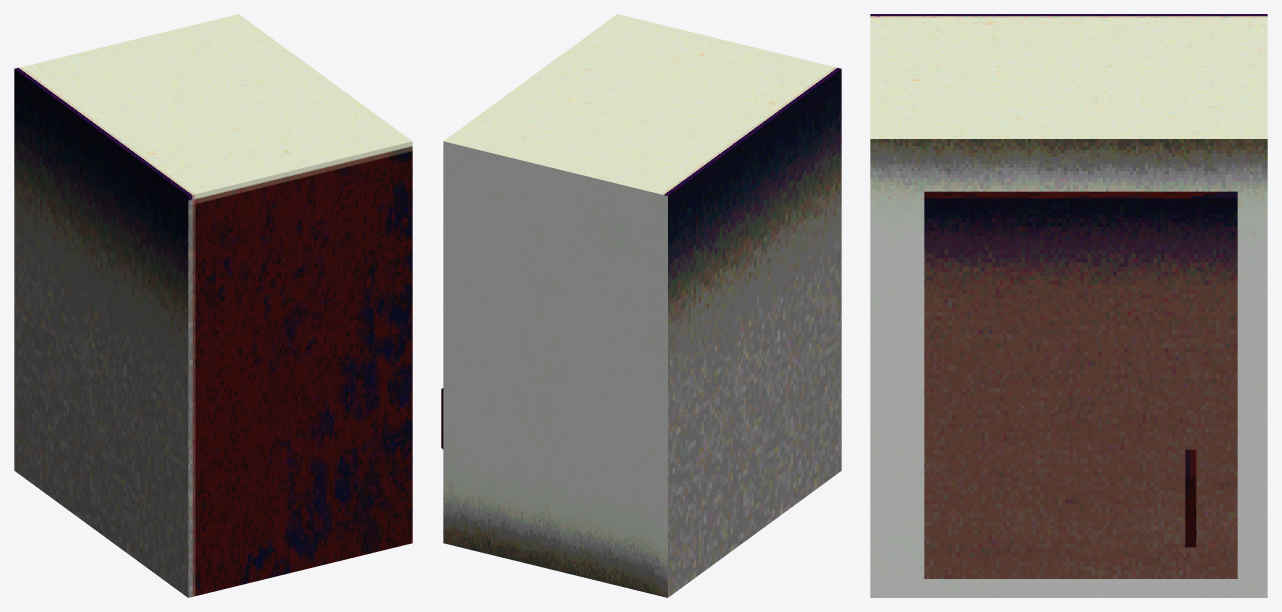
File: SingleCabinets.fbx
3 views of the same model, side by side, from view 1: azimuth 30°, elevation 25°; view 2: azimuth 150°, elevation 25°; view 3: azimuth 270°, elevation 25° (orthographic). The views are drawn at different scales.
Parts seen in each view (by area): view 1: Cube.005; view 2: Cube.005; view 3: Cube.005.
Part boxes in pixels (x1,y1,x2,y2): Cube.005: (14, 14, 412, 597); Cube.005: (441, 14, 841, 597); Cube.005: (870, 14, 1267, 597).
Size of the model in its own units: 126 by 187 by 147.
